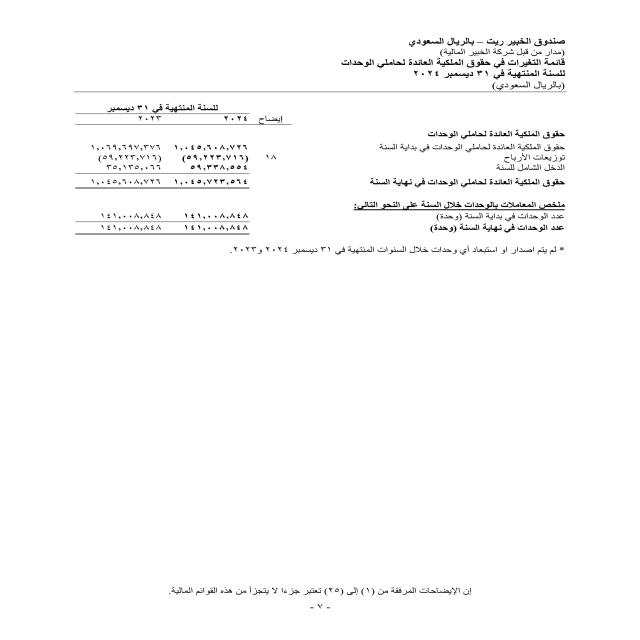financial_sheets: (324, 57, 580, 65)
table: (30, 92, 320, 245)
